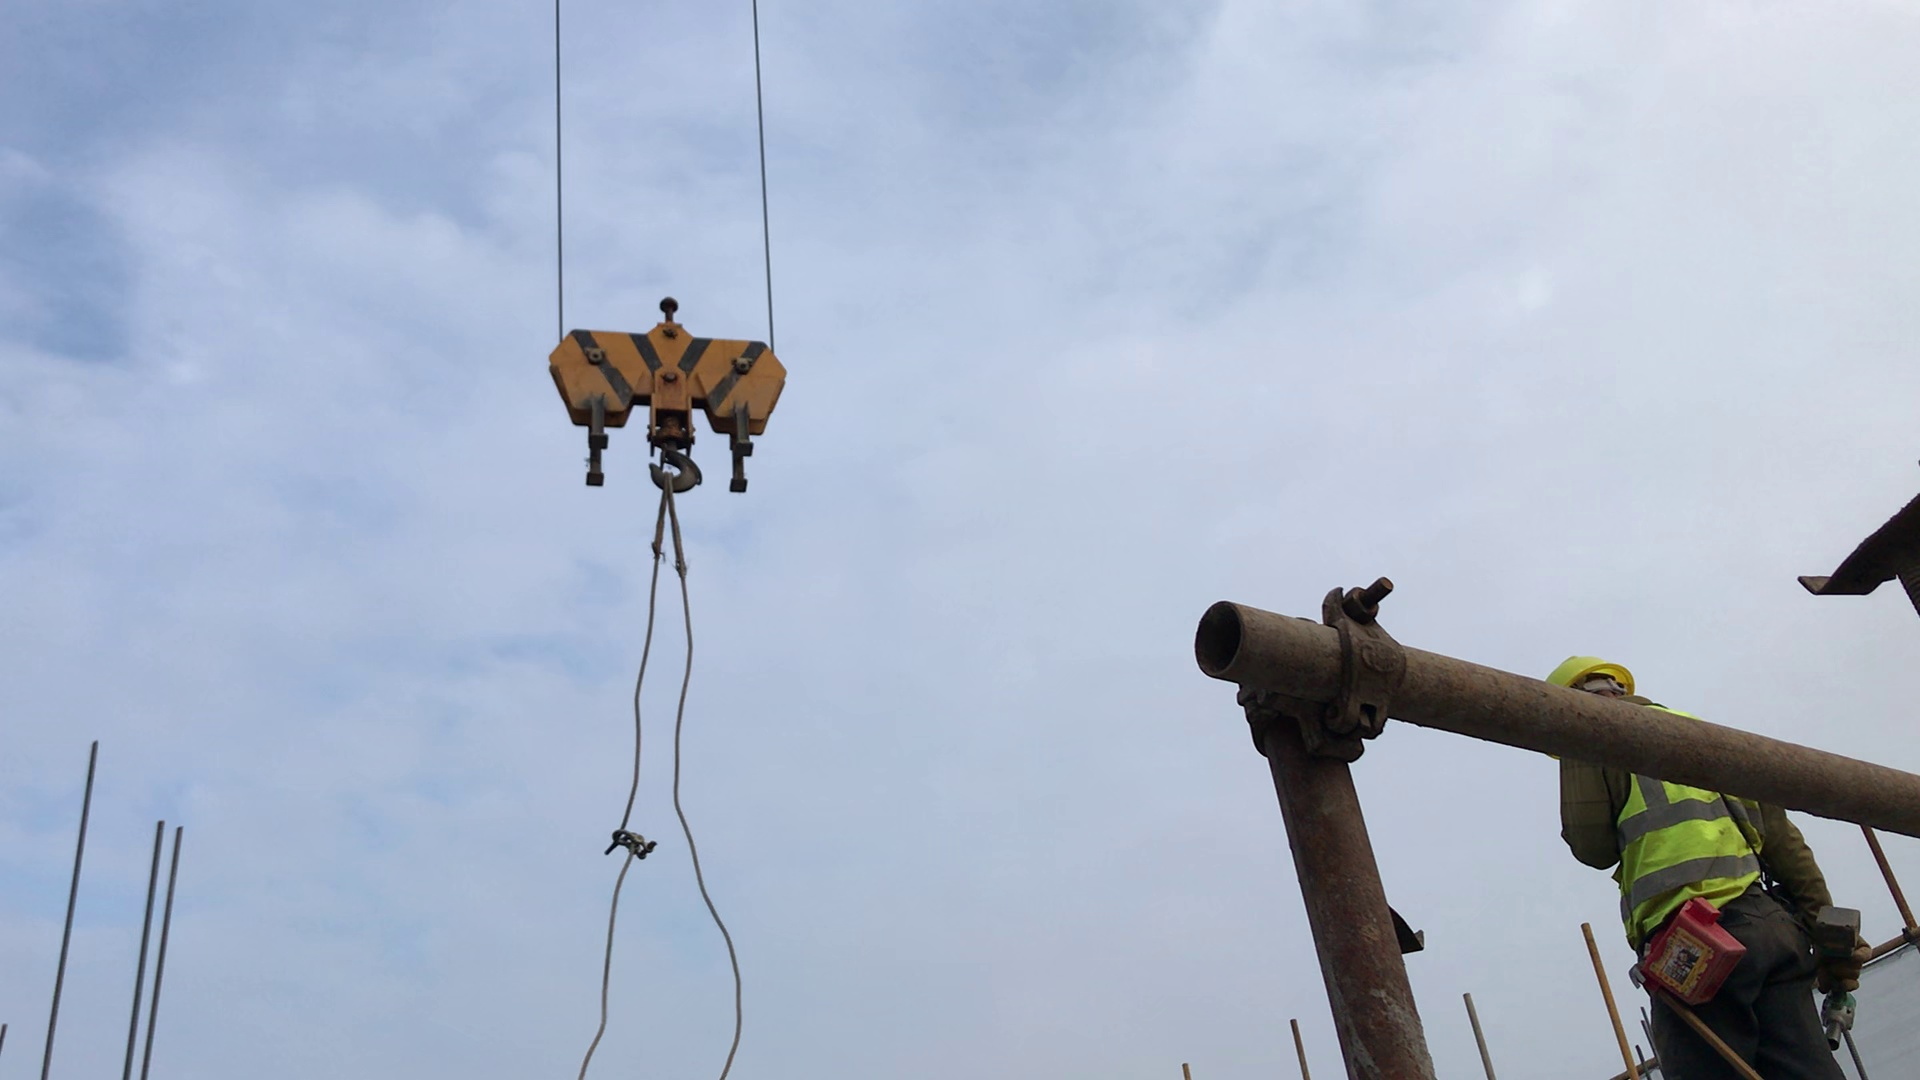helmet: (1540, 651, 1639, 697)
hook: (548, 299, 786, 493)
person: (1544, 653, 1838, 1080)
vest: (1612, 758, 1771, 930)
